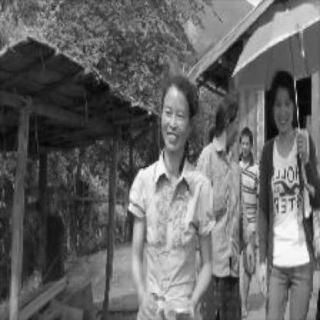other: (194, 261, 258, 317)
